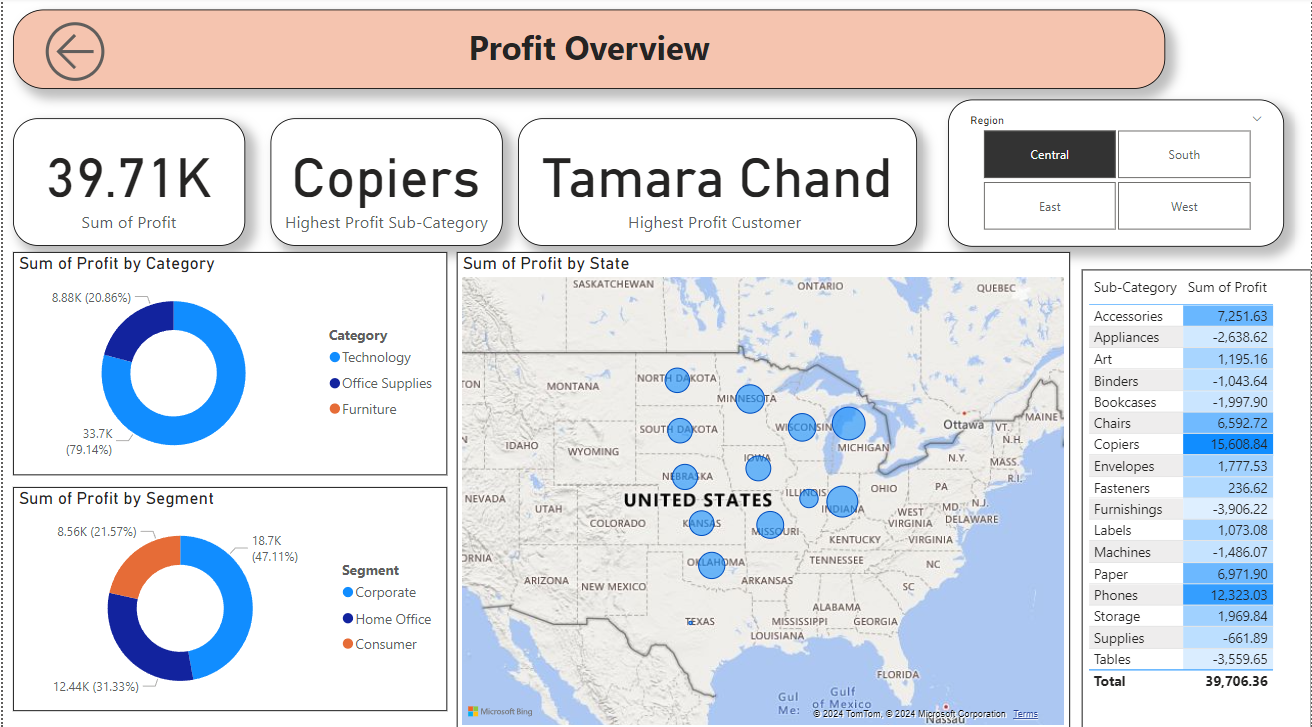

The dashboard page shown, as its layout file describes it:
{"tool":"powerbi","page":{"name":"profit overview","canvas":[1280,720],"ordinal":1},"visuals":[{"type":"textbox","box":[10,12.5,1127.5,77.5],"z":0},{"type":"actionButton","box":[33.8,17.5,83.8,72.5],"z":1000},{"type":"card","fields":{"Values":["Orders.Profit"]},"box":[10,118.8,227.5,125],"z":2000},{"type":"card","fields":{"Values":["Orders.Sub-Category"]},"box":[261.2,118.8,227.5,125],"z":3000},{"type":"card","fields":{"Values":["Orders.Customer Name"]},"box":[503.8,118.8,390,125],"z":4000},{"type":"slicer","fields":{"Values":["Orders.Region"]},"box":[925,100,328.8,143.8],"z":5000},{"type":"donutChart","fields":{"Y":["Orders.Profit"],"Category":["Orders.Category"]},"box":[10,250,425,218.8],"z":6000},{"type":"donutChart","fields":{"Category":["Orders.Segment"],"Y":["Orders.Profit"]},"box":[10,479,425,219],"z":7000},{"type":"map","fields":{"Size":["Orders.Profit"],"Category":["Orders.State"]},"box":[443.8,250,600,470],"z":8000},{"type":"tableEx","fields":{"Values":["Orders.Sub-Category","Orders.Profit"]},"box":[1055,266.2,225,453.8],"z":9000}]}

Visuals, with their boxes in screenshot pixels (x1, y1, x2, y2), scaled from the page's 1280x720 canvas onto the 1312x727 screenshot:
textbox: [x1=10, y1=13, x2=1166, y2=91]
actionButton: [x1=35, y1=18, x2=121, y2=91]
card - Orders.Profit: [x1=10, y1=120, x2=243, y2=246]
card - Orders.Sub-Category: [x1=268, y1=120, x2=501, y2=246]
card - Orders.Customer Name: [x1=516, y1=120, x2=916, y2=246]
slicer - Orders.Region: [x1=948, y1=101, x2=1285, y2=246]
donutChart - Orders.Profit x Orders.Category: [x1=10, y1=252, x2=446, y2=473]
donutChart - Orders.Segment x Orders.Profit: [x1=10, y1=484, x2=446, y2=705]
map - Orders.Profit x Orders.State: [x1=455, y1=252, x2=1070, y2=726]
tableEx - Orders.Sub-Category x Orders.Profit: [x1=1081, y1=269, x2=1311, y2=726]
